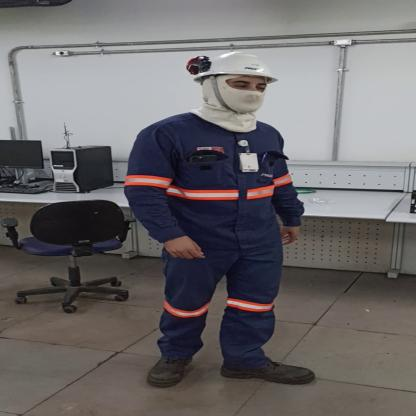Balaclava: (171, 75, 285, 134)
Capacete: (182, 48, 286, 84)
